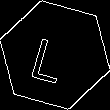L_N: (33, 27, 77, 83)
